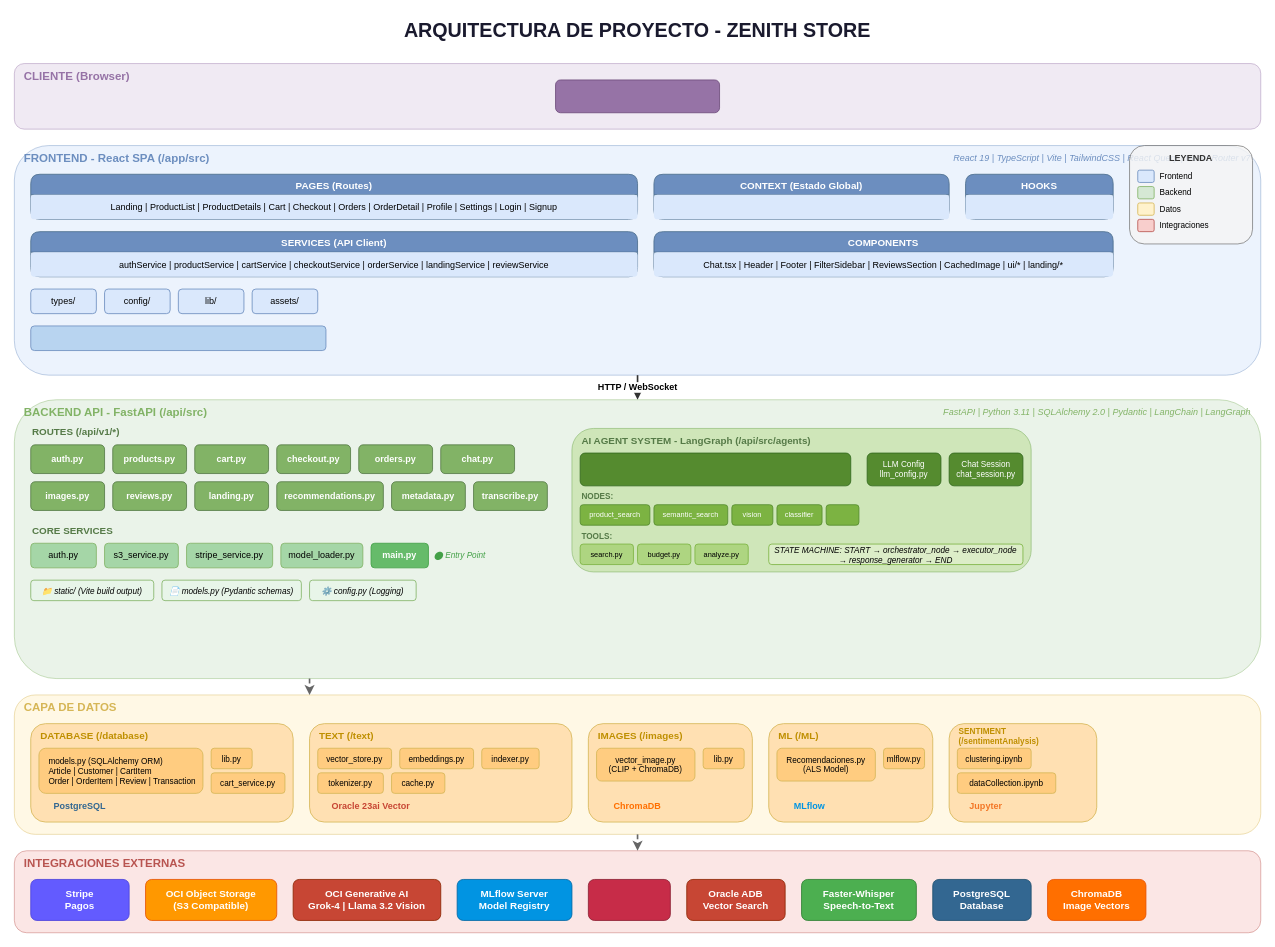
Image size: 1275x947. Some labels were removed from this diagram. The shapes that lost their labels are listed below. From the top down, each one's centre as x and y in pixels, then its label:
the point at 637,96: 🌐 Web Browser
the point at 801,206: AuthContext | CartContext | ChatContext | ThemeContext
the point at 1039,206: useProducts | useLandingData
the point at 178,338: Radix UI | Framer Motion | Lucide Icons | Sonner | Stripe.js
the point at 715,469: ORCHESTRATOR (ReAct Pattern) orchestrator.py | graph.py | state.py | routing.py
the point at 842,514: chat
the point at 629,899: MinIO Artifacts
